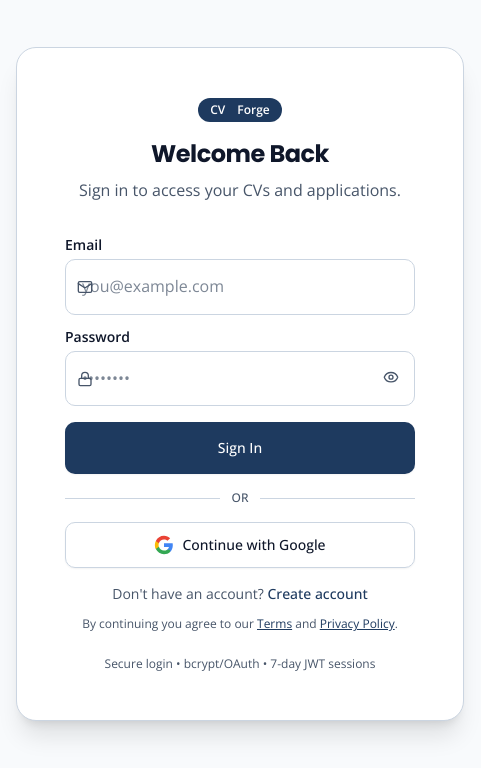
Test: Login OAuth › clears the Firebase session when the backend rejects the token
Step 1. Click the button "Continue with Google" → (240, 545), box [65, 522, 415, 568]
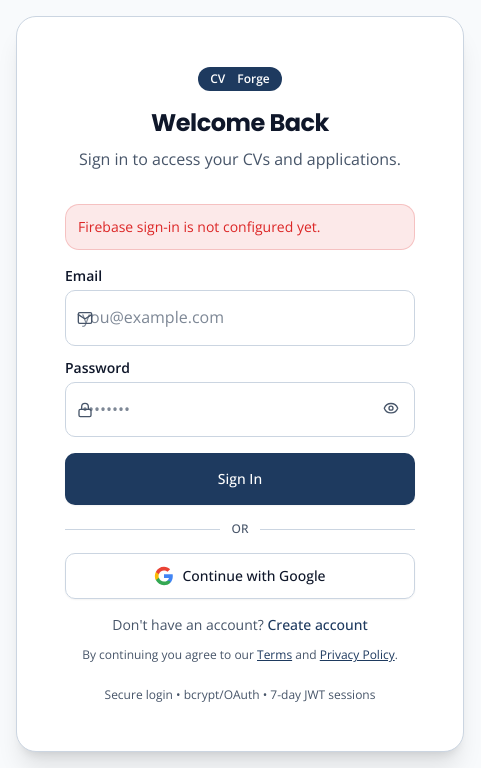
Result: the message shows "not configured yet" at [78, 217, 320, 236]
